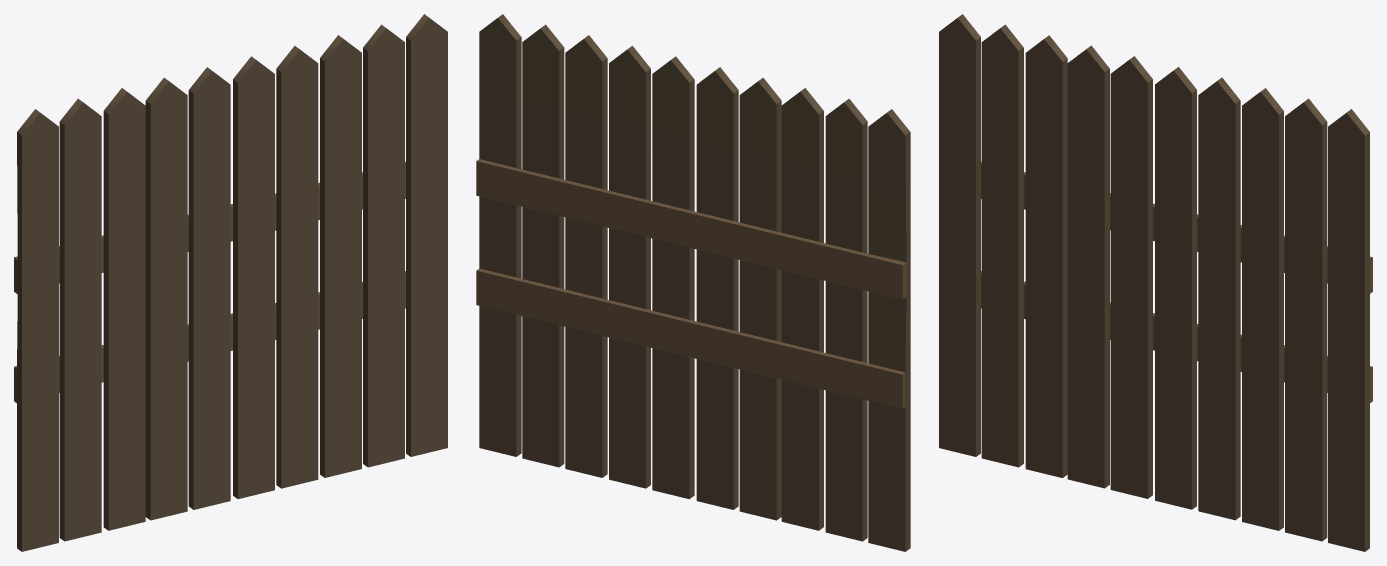
Rendered from fence_04.FBX.
3 views of the same model, side by side, from view 1: azimuth 30°, elevation 25°; view 2: azimuth 150°, elevation 25°; view 3: azimuth 330°, elevation 25° (orthographic).
Visible parts, largest first — view 1: fence_04; view 2: fence_04; view 3: fence_04.
Part boxes in pixels (x1,y1,x2,y2): fence_04: (14, 14, 447, 551); fence_04: (476, 14, 910, 551); fence_04: (939, 14, 1372, 551).
Size of the model in its own units: 105 by 102 by 3.39.
1 material, 1 textured.
